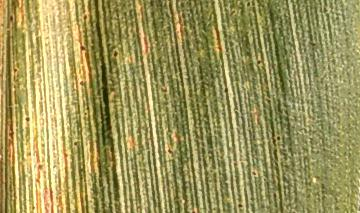tarspot: (162, 144, 180, 156), (247, 167, 261, 179), (22, 112, 33, 126), (270, 187, 281, 201), (234, 198, 246, 210), (11, 63, 20, 79), (80, 10, 91, 23), (78, 41, 88, 55), (272, 131, 283, 143), (221, 83, 232, 95), (158, 84, 170, 95), (70, 137, 80, 150), (7, 11, 16, 25), (111, 46, 119, 60), (242, 1, 253, 11), (307, 38, 318, 48), (253, 58, 263, 66), (83, 103, 93, 111)
